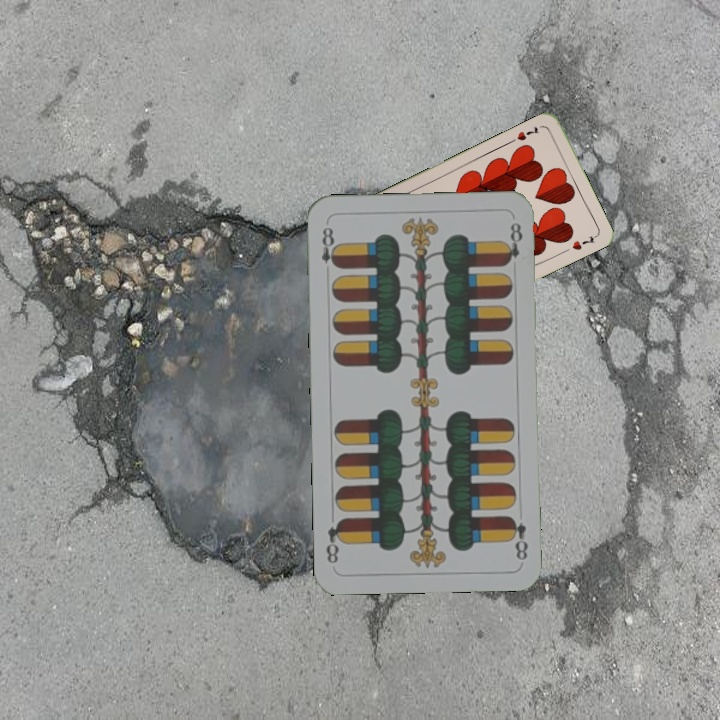E8: (505, 512, 531, 562), (317, 223, 341, 270)
H7: (507, 122, 542, 145)
